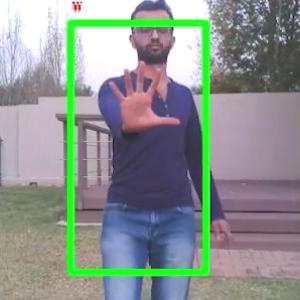follow_hand: (108, 57, 181, 135)
